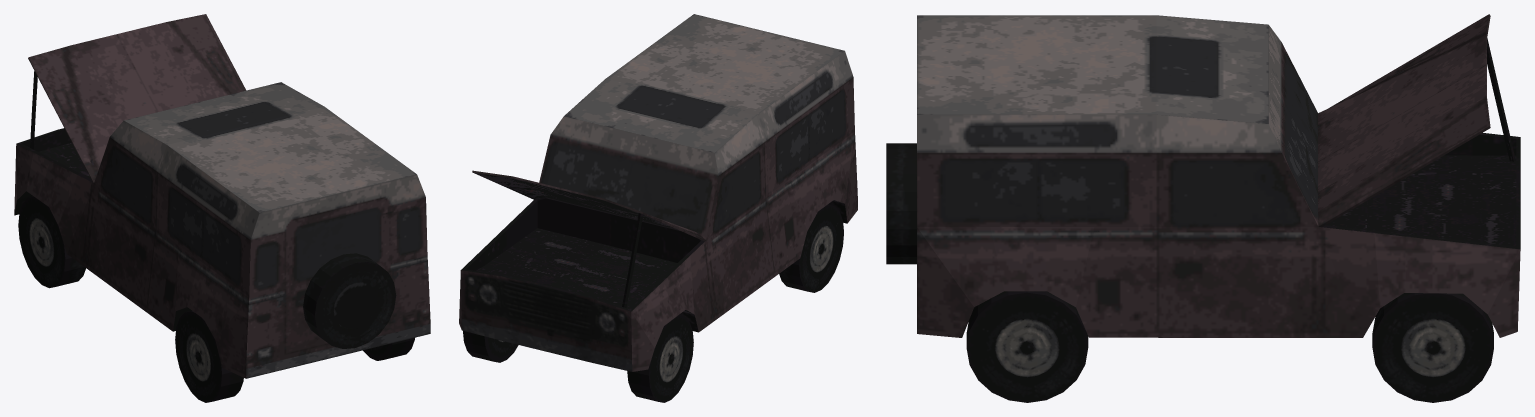
The model's file is SM_EC_LR90_Broken_Down_00.fbx.
3 views of the same model, side by side, from view 1: azimuth 30°, elevation 25°; view 2: azimuth 150°, elevation 25°; view 3: azimuth 270°, elevation 25° (orthographic). The views are drawn at different scales.
Visible parts, largest first — view 1: SM_EC_LR90_Broken_Down_00; view 2: SM_EC_LR90_Broken_Down_00; view 3: SM_EC_LR90_Broken_Down_00.
Boxes of the visible parts, left/top/right/bottom form: SM_EC_LR90_Broken_Down_00: left=14, top=14, right=430, bottom=402; SM_EC_LR90_Broken_Down_00: left=459, top=14, right=857, bottom=402; SM_EC_LR90_Broken_Down_00: left=886, top=14, right=1520, bottom=402.
Size of the model in its own units: 1.93 by 4.07 by 1.96.
